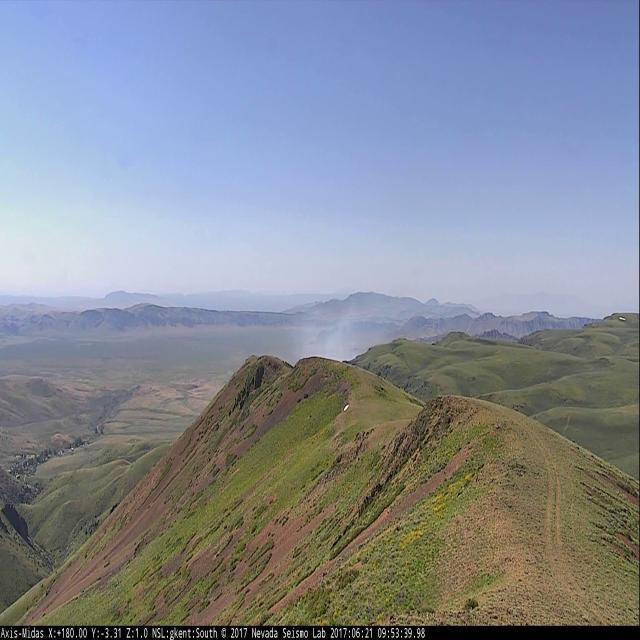smoke: (281, 292, 401, 368)
